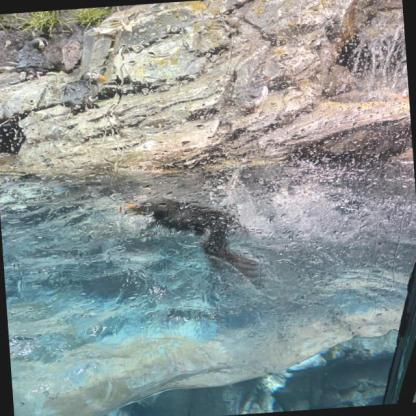puffin: (124, 190, 272, 298), (52, 67, 110, 114), (13, 35, 54, 79)
